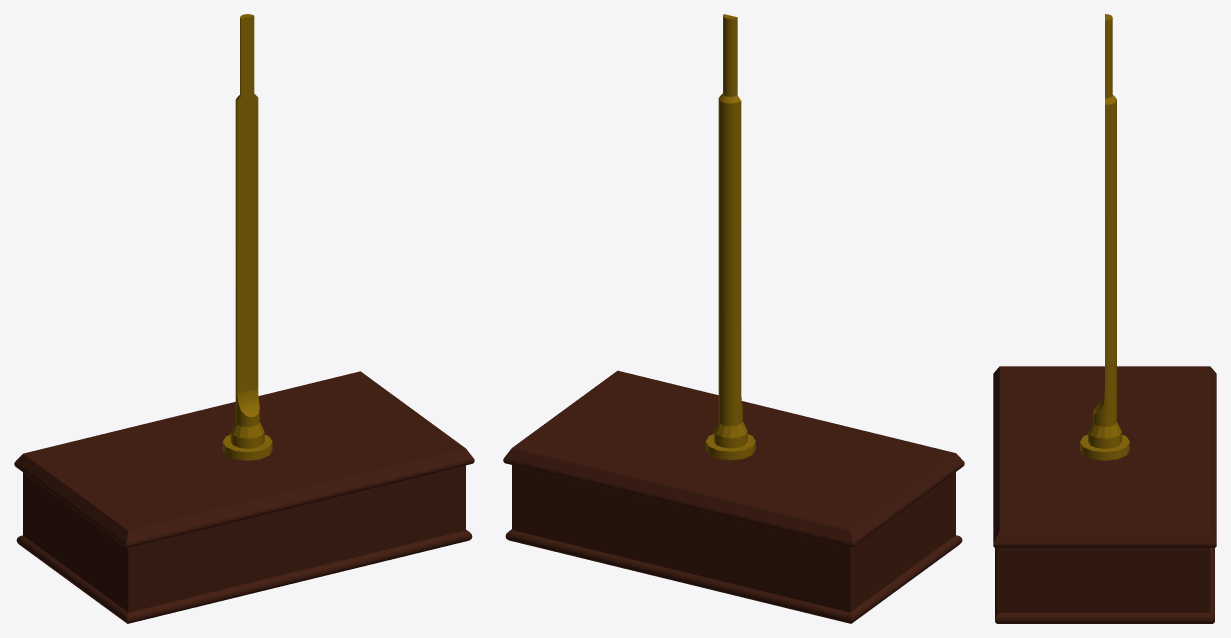
File: ScaleBase.fbx
3 renders of one model, left to right at view 1: azimuth 30°, elevation 25°; view 2: azimuth 150°, elevation 25°; view 3: azimuth 270°, elevation 25°, orthographic.
Parts seen in each view (by area): view 1: OuterShell; view 2: OuterShell; view 3: OuterShell.
Boxes of the visible parts, bbox=[...] form: OuterShell: bbox=[14, 14, 474, 623]; OuterShell: bbox=[503, 14, 964, 623]; OuterShell: bbox=[993, 14, 1216, 623].
Bounding box in the file's own units: 12.64 × 18.22 × 7.02.
